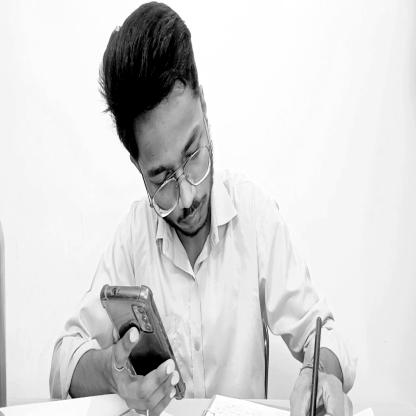Distracted: (101, 6, 219, 242)
